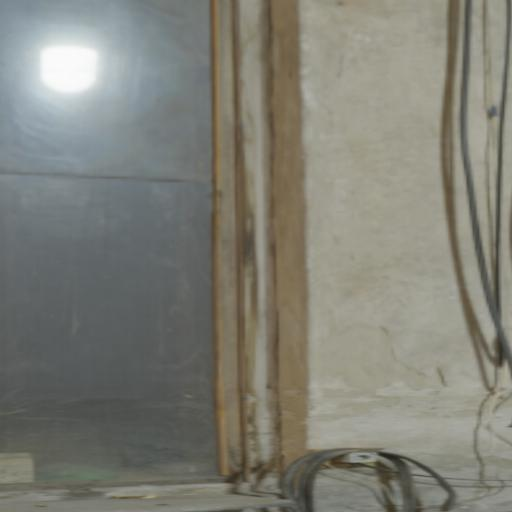nothing: (3, 0, 512, 512)
